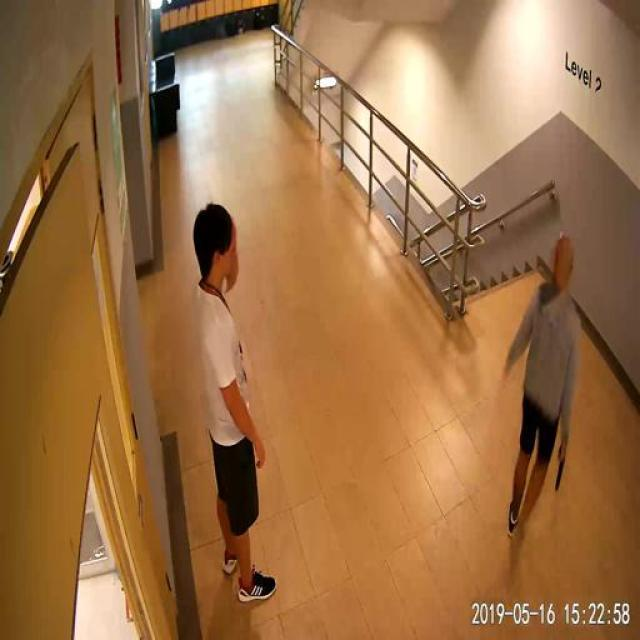Gun: (547, 435, 585, 507)
